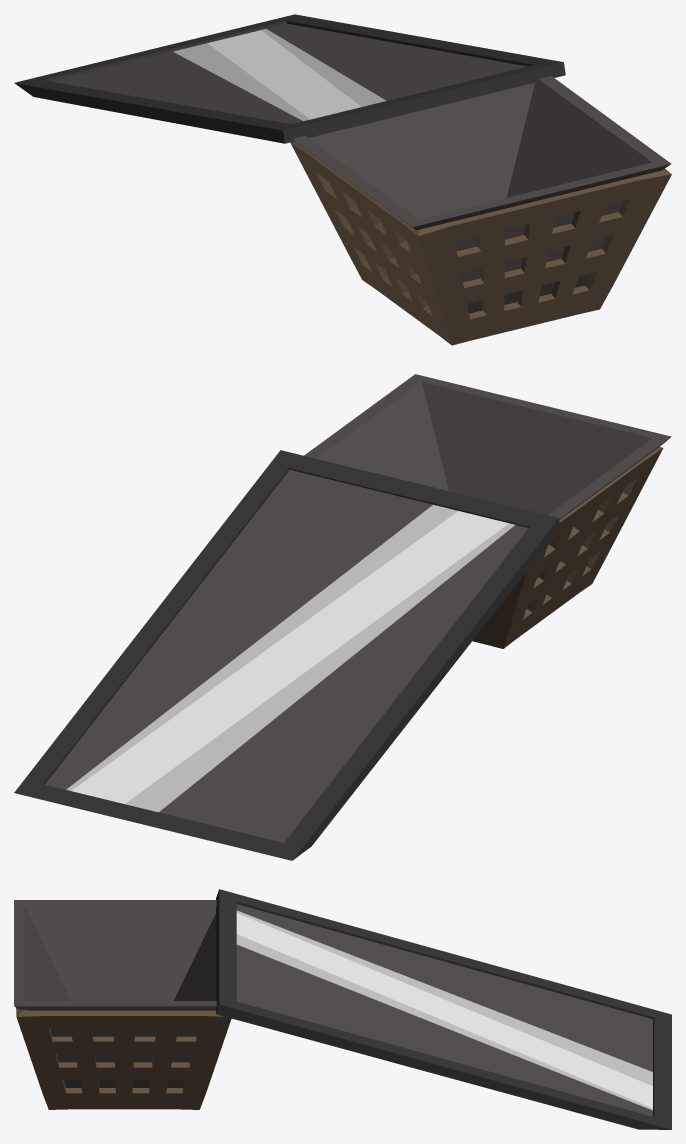
File: Rampa 1.fbx
3 views of the same model, one above another, from view 1: azimuth 30°, elevation 25°; view 2: azimuth 150°, elevation 25°; view 3: azimuth 270°, elevation 25° (orthographic). The views are drawn at different scales.
Parts seen in each view (by area): view 1: Pantalla_Rota, Bolsa, Tacho; view 2: Pantalla_Rota, Bolsa, Tacho; view 3: Pantalla_Rota, Bolsa, Tacho.
Part boxes in pixels (x1=…): Pantalla_Rota: x1=14, y1=14, x2=565, y2=143; Bolsa: x1=293, y1=76, x2=671, y2=313; Tacho: x1=290, y1=141, x2=671, y2=345; Pantalla_Rota: x1=14, y1=450, x2=560, y2=860; Bolsa: x1=304, y1=374, x2=671, y2=608; Tacho: x1=472, y1=447, x2=663, y2=648; Pantalla_Rota: x1=216, y1=889, x2=671, y2=1129; Bolsa: x1=14, y1=900, x2=216, y2=1087; Tacho: x1=16, y1=1008, x2=231, y2=1109.
Bounding box in the file's own units: 3.19 × 1.71 × 7.68.
